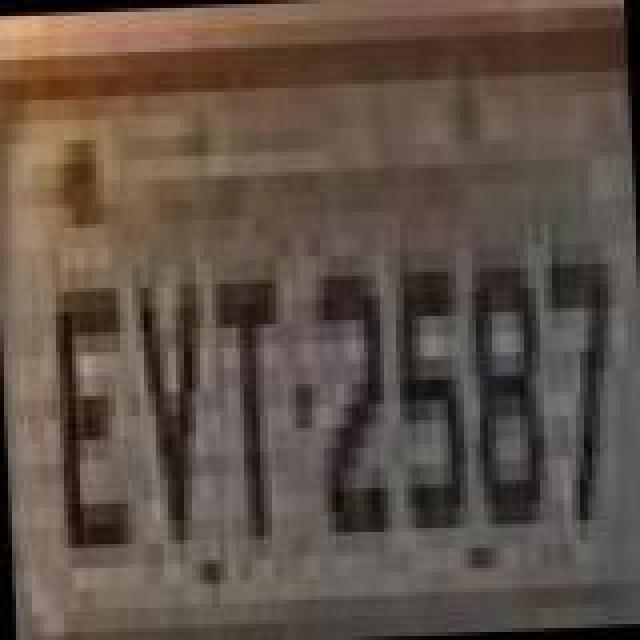2: (310, 262, 394, 546)
5: (388, 250, 476, 542)
7: (544, 250, 624, 534)
8: (462, 258, 554, 542)
E: (52, 290, 140, 566)
T: (206, 266, 290, 550)
V: (134, 270, 218, 554)
